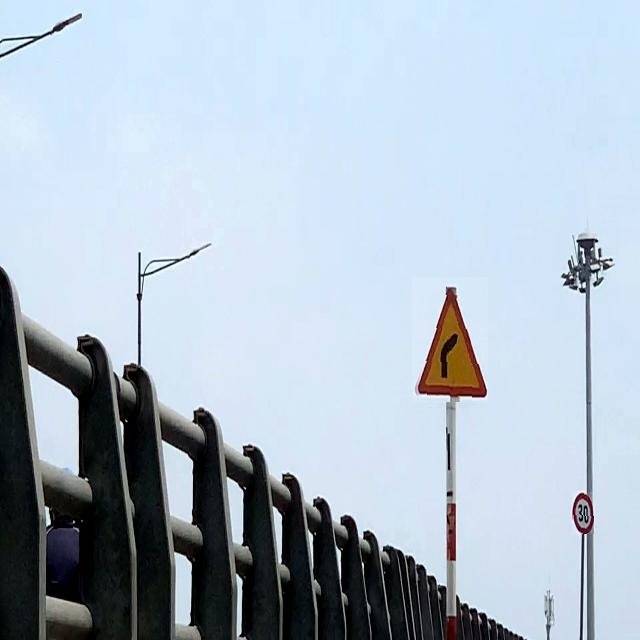bien_cam: (412, 277, 488, 403), (572, 492, 594, 534)
